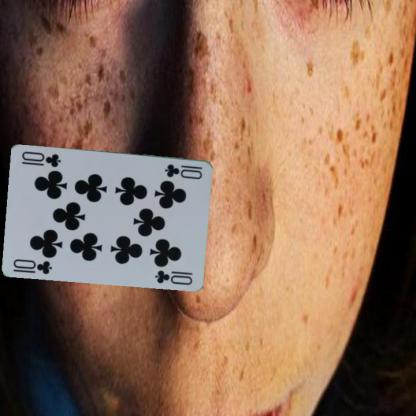10c: (10, 256, 54, 275), (162, 161, 204, 180)
